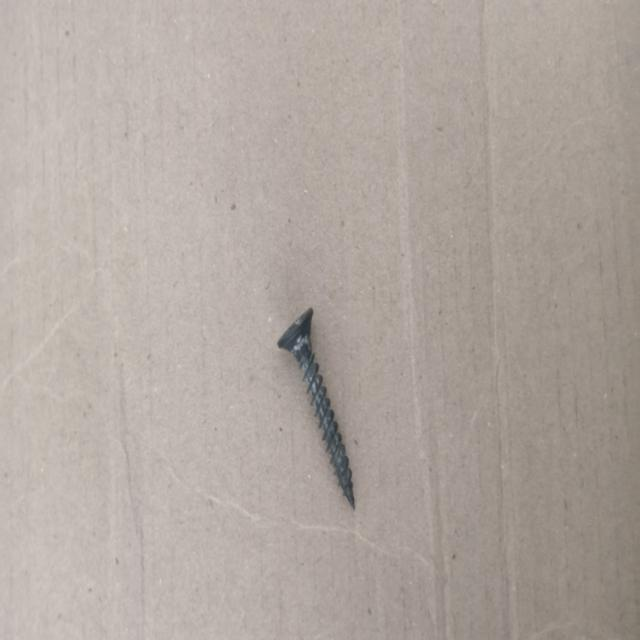screw: (277, 308, 357, 510)
